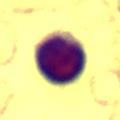lymphocyte: (33, 29, 87, 87)
